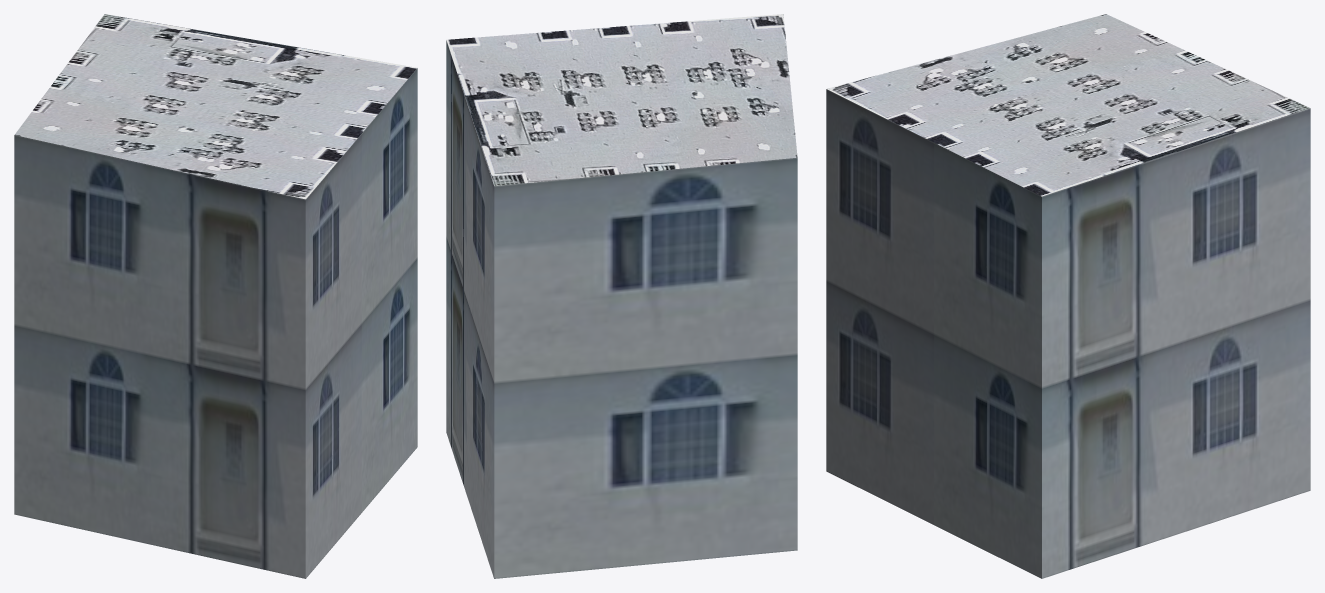
The model's file is ResTex__2819.fbx.
3 views of the same model, side by side, from view 1: azimuth 30°, elevation 25°; view 2: azimuth 150°, elevation 25°; view 3: azimuth 270°, elevation 25° (orthographic). The views are drawn at different scales.
Visible parts, largest first — view 1: CityEngineMaterial_17_m, CityEngineMaterial_8_m; view 2: CityEngineMaterial_17_m, CityEngineMaterial_8_m; view 3: CityEngineMaterial_17_m, CityEngineMaterial_8_m.
Part boxes in pixels (x1,y1,x2,y2): CityEngineMaterial_17_m: (14,68,417,578); CityEngineMaterial_8_m: (15,14,417,199); CityEngineMaterial_17_m: (446,40,797,578); CityEngineMaterial_8_m: (446,14,797,185); CityEngineMaterial_17_m: (826,89,1310,578); CityEngineMaterial_8_m: (827,14,1310,196).
Bounding box in the file's own units: 6.14 × 6 × 6.89.
2 materials, 2 textured.
